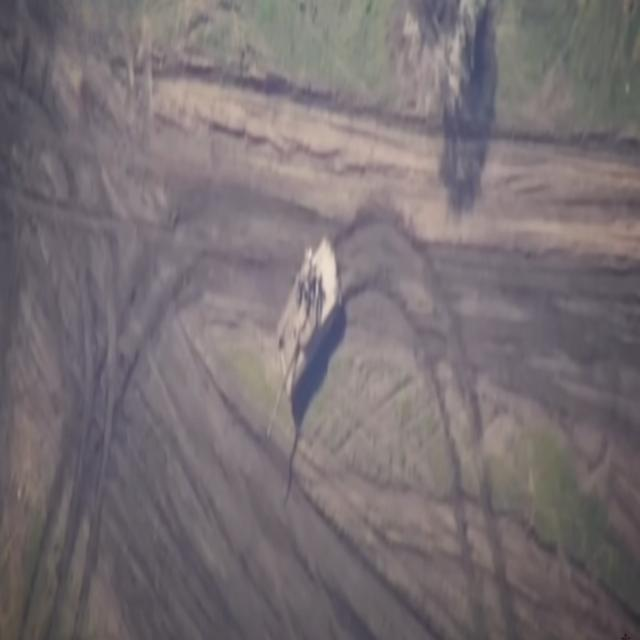MBT: (267, 231, 344, 439)
